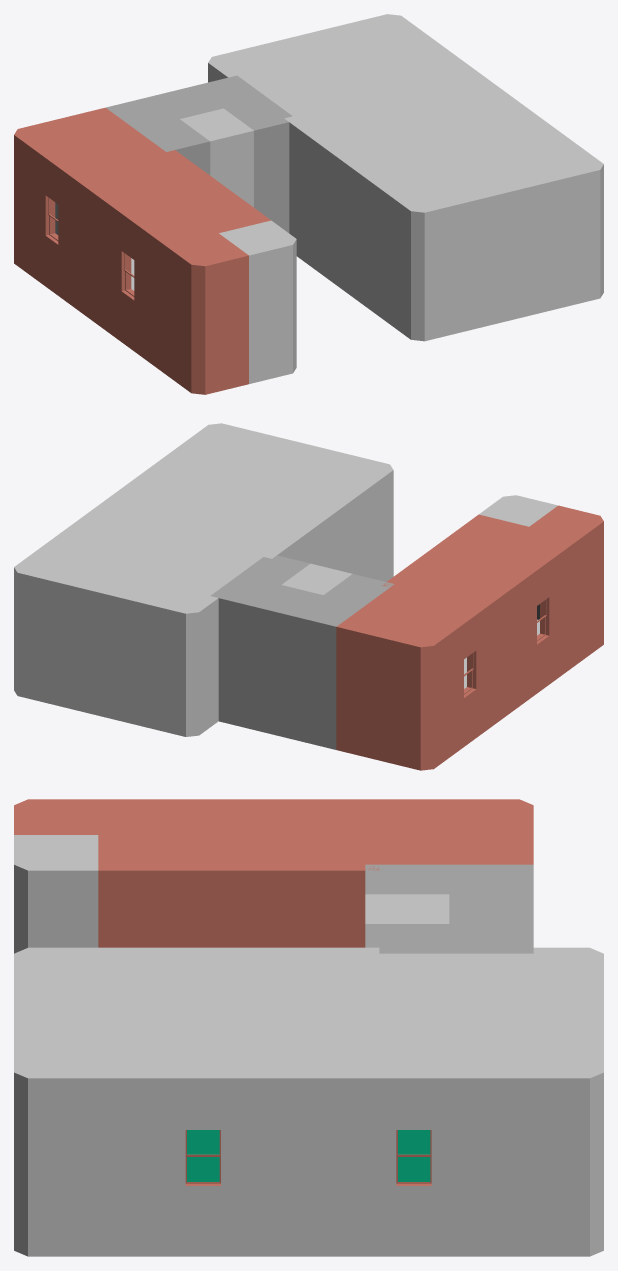
The model's file is House.fbx.
3 renders of one model, top to bottom at view 1: azimuth 30°, elevation 25°; view 2: azimuth 150°, elevation 25°; view 3: azimuth 270°, elevation 25°, orthographic. The views are drawn at different scales.
Parts seen in each view (by area): view 1: Bedroom, Kitchen, Hall; view 2: Bedroom, Kitchen, Hall; view 3: Bedroom, Kitchen, Hall, Glass.
Part boxes in pixels (x1,y1,x2,y2): Bedroom: (208,14,603,341); Kitchen: (14,107,296,394); Hall: (106,75,292,232); Bedroom: (14,423,393,736); Kitchen: (336,495,603,770); Hall: (210,555,394,749); Bedroom: (14,947,603,1256); Kitchen: (14,799,533,953); Hall: (365,864,533,953); Glass: (187,1130,430,1181).
Size of the model in its own units: 940 by 280 by 840.
